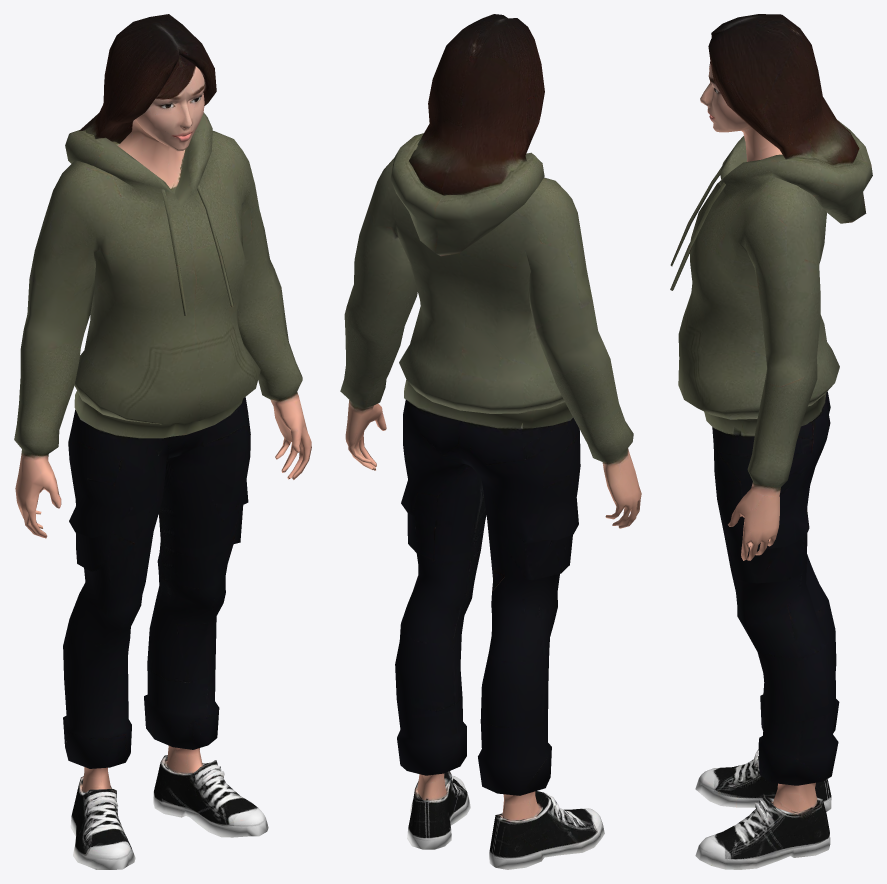
Rendered from meshy-npc-passenger.glb.
3 renders of one model, left to right at view 1: azimuth 30°, elevation 25°; view 2: azimuth 150°, elevation 25°; view 3: azimuth 270°, elevation 25°, orthographic.
Size of the model in its own units: 0.3704 by 1 by 0.2274.
1 material, 1 textured.
